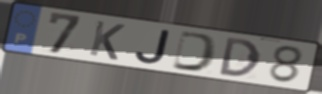7: (46, 10, 83, 57)
8: (266, 45, 305, 85)
D: (170, 29, 220, 74), (218, 36, 263, 78)
J: (133, 29, 173, 66)
K: (87, 19, 128, 62)
